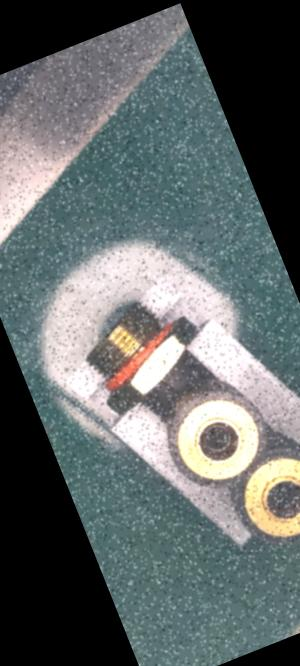craze: (160, 376, 178, 398)
